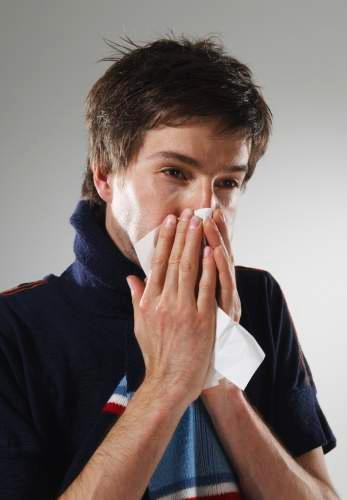face: (123, 107, 248, 312)
